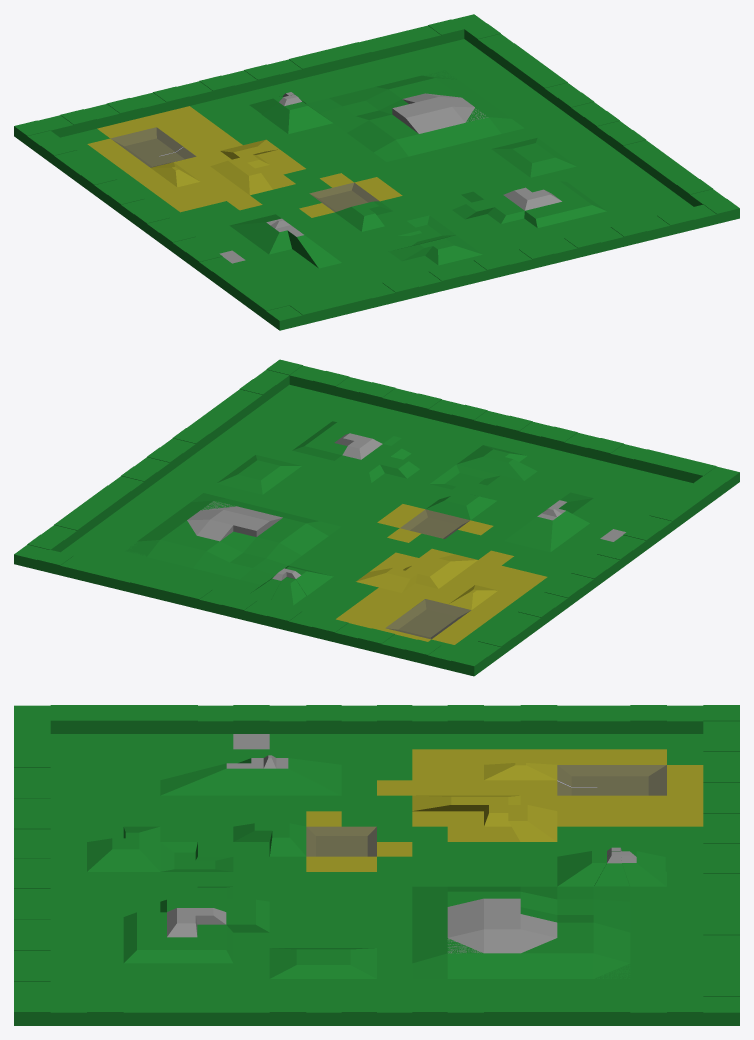
File: ground.glb
The picture shows the model from 3 angles, top to bottom: view 1: azimuth 30°, elevation 25°; view 2: azimuth 150°, elevation 25°; view 3: azimuth 270°, elevation 25°; orthographic projection. The views are drawn at different scales.
Visible parts, largest first — view 1: Cube; view 2: Cube; view 3: Cube.
Part boxes in pixels (x1,y1,x2,y2): Cube: (14, 14, 739, 330); Cube: (14, 359, 739, 676); Cube: (14, 705, 739, 1025).
Size of the model in its own units: 497 by 23.96 by 497.
